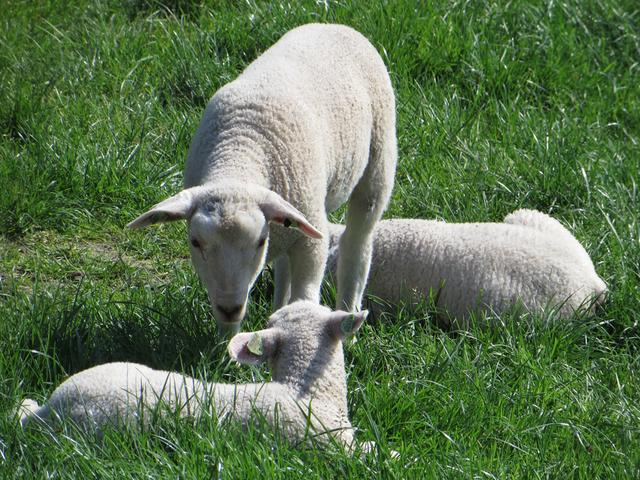sheep: (154, 18, 446, 362)
